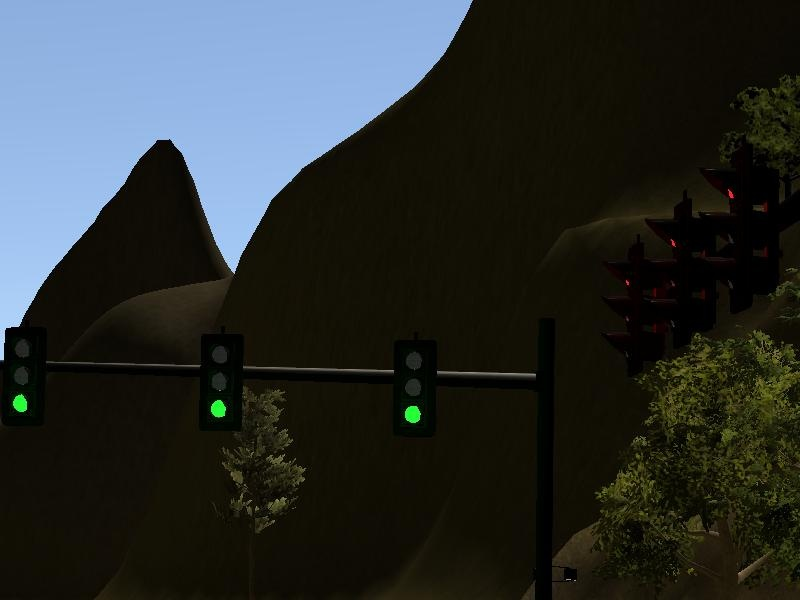GREEN: (2, 325, 45, 418), (197, 336, 240, 429), (391, 338, 434, 431)
